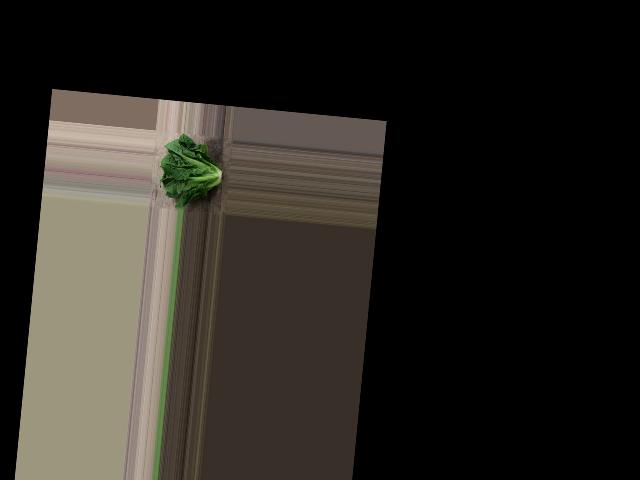lettuce: (155, 134, 230, 212)
